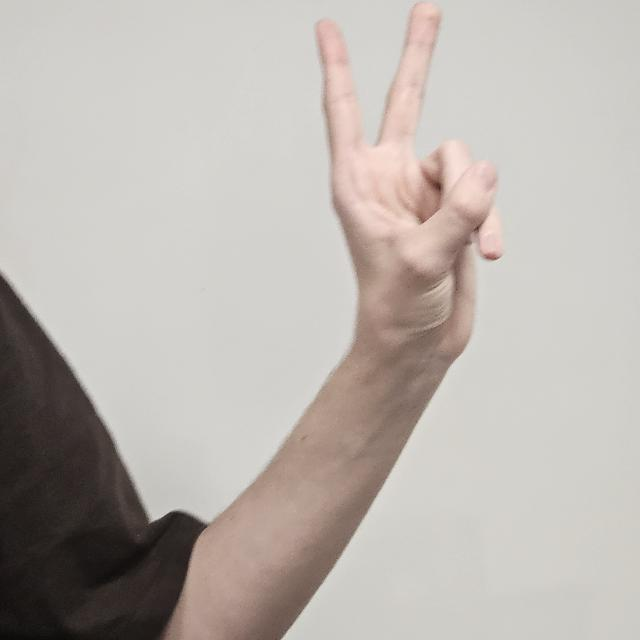Triangulo: (306, 3, 518, 389)
